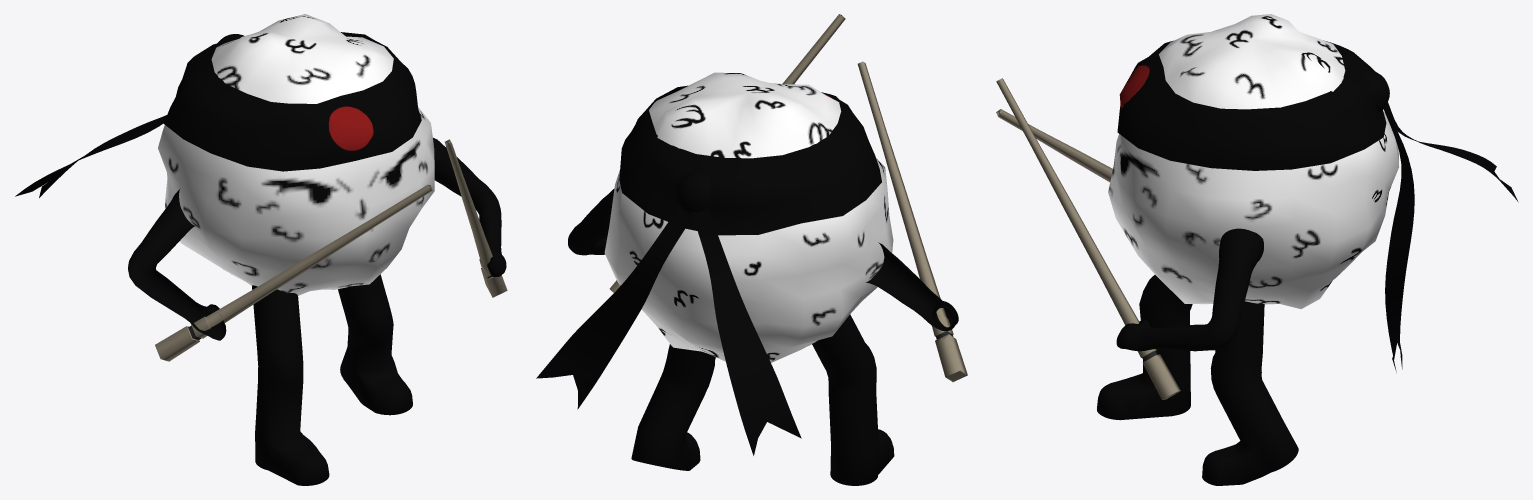
Rendered from komedono.glb.
The picture shows the model from 3 angles, left to right: view 1: azimuth 30°, elevation 25°; view 2: azimuth 150°, elevation 25°; view 3: azimuth 270°, elevation 25°; orthographic projection. The views are drawn at different scales.
Parts seen in each view (by area): view 1: Cuerpo, Bandana, Piernas.001, Piernas, Brazos.002, Palillo_2.001, Brazos, Palillo_2, Bandana_Tira.001; view 2: Cuerpo, Bandana, Piernas.001, Bandana_Tira.001, Bandana_Tira, Piernas, Palillo_2.001, Brazos.002, Brazos, Nudo, Palillo_2; view 3: Cuerpo, Bandana, Piernas, Brazos, Piernas.001, Palillo_2, Bandana_Tira, Palillo_2.001, Bandana_Tira.001, Nudo.
Boxes of the visible parts, x1=… form: Cuerpo: x1=158, y1=14, x2=434, y2=295; Bandana: x1=163, y1=32, x2=421, y2=171; Piernas.001: x1=252, y1=285, x2=329, y2=485; Piernas: x1=338, y1=274, x2=412, y2=415; Brazos.002: x1=128, y1=188, x2=226, y2=340; Palillo_2.001: x1=155, y1=184, x2=432, y2=361; Brazos: x1=433, y1=137, x2=506, y2=276; Palillo_2: x1=444, y1=139, x2=507, y2=297; Bandana_Tira.001: x1=15, y1=115, x2=166, y2=197; Cuerpo: x1=604, y1=72, x2=893, y2=362; Bandana: x1=619, y1=85, x2=881, y2=235; Piernas.001: x1=812, y1=314, x2=894, y2=485; Bandana_Tira.001: x1=691, y1=208, x2=801, y2=455; Bandana_Tira: x1=536, y1=206, x2=692, y2=409; Piernas: x1=631, y1=344, x2=715, y2=470; Palillo_2.001: x1=857, y1=61, x2=967, y2=382; Brazos.002: x1=866, y1=242, x2=958, y2=331; Brazos: x1=568, y1=188, x2=614, y2=255; Nudo: x1=676, y1=171, x2=711, y2=215; Palillo_2: x1=609, y1=14, x2=845, y2=292; Cuerpo: x1=1108, y1=14, x2=1398, y2=309; Bandana: x1=1117, y1=40, x2=1386, y2=170; Piernas: x1=1202, y1=301, x2=1298, y2=485; Brazos: x1=1116, y1=228, x2=1263, y2=351; Piernas.001: x1=1097, y1=275, x2=1192, y2=420; Palillo_2: x1=996, y1=78, x2=1180, y2=399; Bandana_Tira: x1=1383, y1=106, x2=1414, y2=372; Palillo_2.001: x1=996, y1=109, x2=1112, y2=182; Bandana_Tira.001: x1=1385, y1=102, x2=1518, y2=202; Nudo: x1=1360, y1=69, x2=1389, y2=112.
Bounding box in the file's own units: 3.19 × 3.22 × 3.76.
4 materials, 4 textured.
